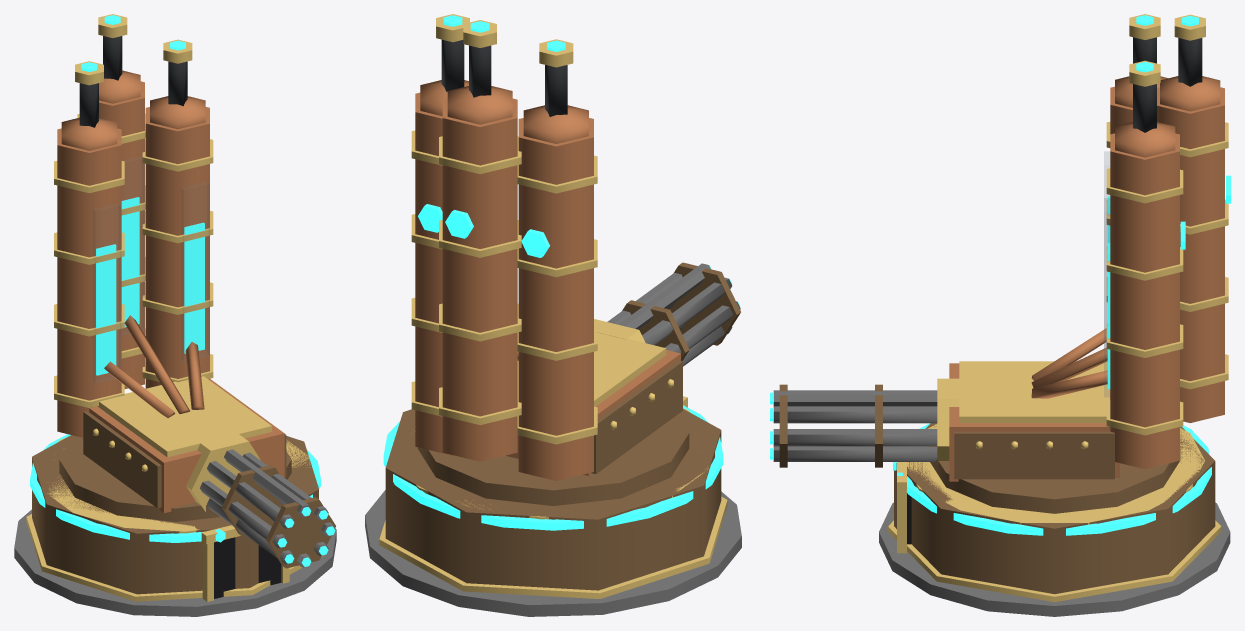
File: Machinegoon_T3_Pepperbox.glb
3 views of the same model, side by side, from view 1: azimuth 30°, elevation 25°; view 2: azimuth 150°, elevation 25°; view 3: azimuth 270°, elevation 25° (orthographic). The views are drawn at different scales.
Visible parts, largest first — view 1: Machinegoon_T3_Pepperbox_Turret, Machinegoon_T3_Pepperbox_Base; view 2: Machinegoon_T3_Pepperbox_Turret, Machinegoon_T3_Pepperbox_Base; view 3: Machinegoon_T3_Pepperbox_Turret, Machinegoon_T3_Pepperbox_Base.
Boxes of the visible parts, <box> form: Machinegoon_T3_Pepperbox_Turret: <box>54,14,335,568</box>; Machinegoon_T3_Pepperbox_Base: <box>14,434,336,616</box>; Machinegoon_T3_Pepperbox_Turret: <box>411,14,740,505</box>; Machinegoon_T3_Pepperbox_Base: <box>365,396,741,616</box>; Machinegoon_T3_Pepperbox_Turret: <box>770,14,1230,513</box>; Machinegoon_T3_Pepperbox_Base: <box>879,423,1230,616</box>.
Bounding box in the file's own units: 3.5 × 5.74 × 4.59.
